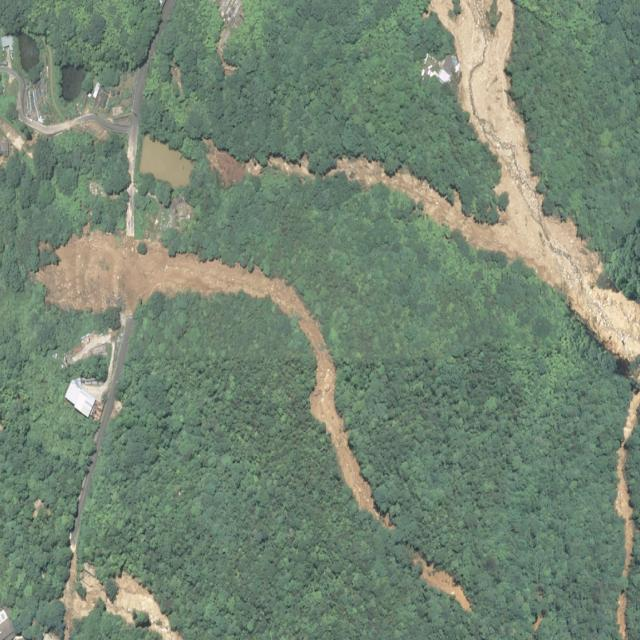landslide: (336, 0, 640, 362), (34, 232, 395, 530), (59, 552, 181, 640), (105, 573, 182, 640), (615, 391, 639, 579), (414, 554, 472, 612), (202, 138, 261, 187), (266, 153, 315, 179), (618, 593, 627, 640)
